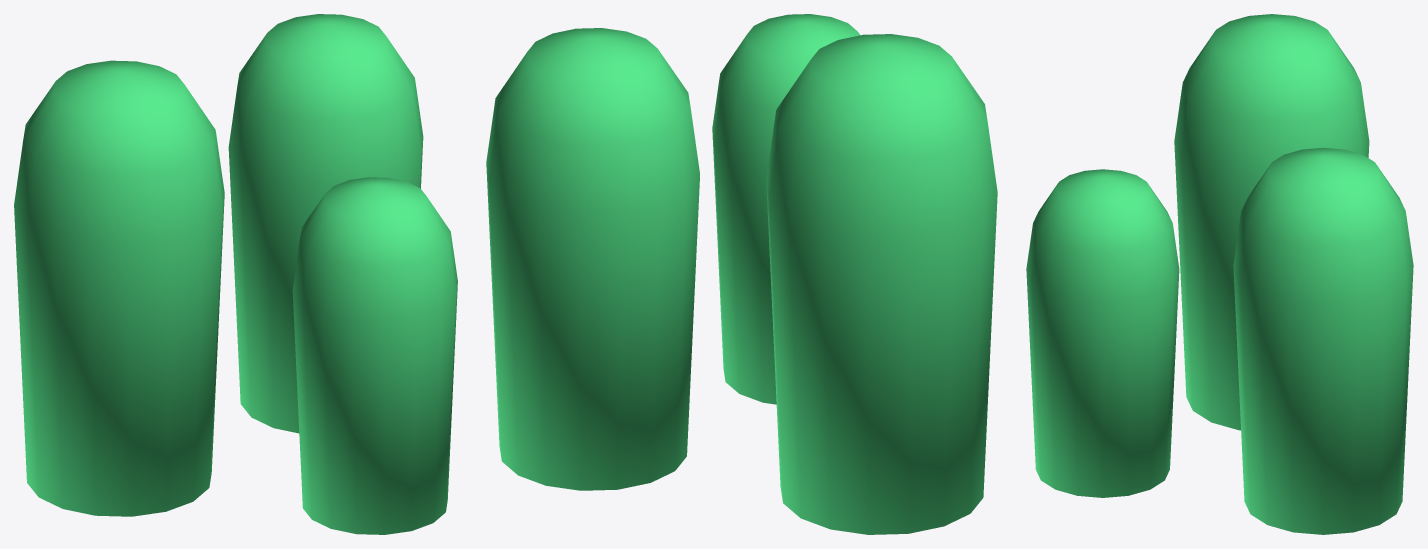
The model's file is Grass.fbx.
3 views of the same model, side by side, from view 1: azimuth 30°, elevation 25°; view 2: azimuth 150°, elevation 25°; view 3: azimuth 270°, elevation 25° (orthographic). The views are drawn at different scales.
Parts seen in each view (by area): view 1: Grass; view 2: Grass; view 3: Grass.
Boxes of the visible parts, left/top/right/bottom form: Grass: left=14, top=14, right=457, bottom=534; Grass: left=486, top=14, right=997, bottom=534; Grass: left=1026, top=14, right=1413, bottom=534.
Bounding box in the file's own units: 55.48 × 52.35 × 49.23.
